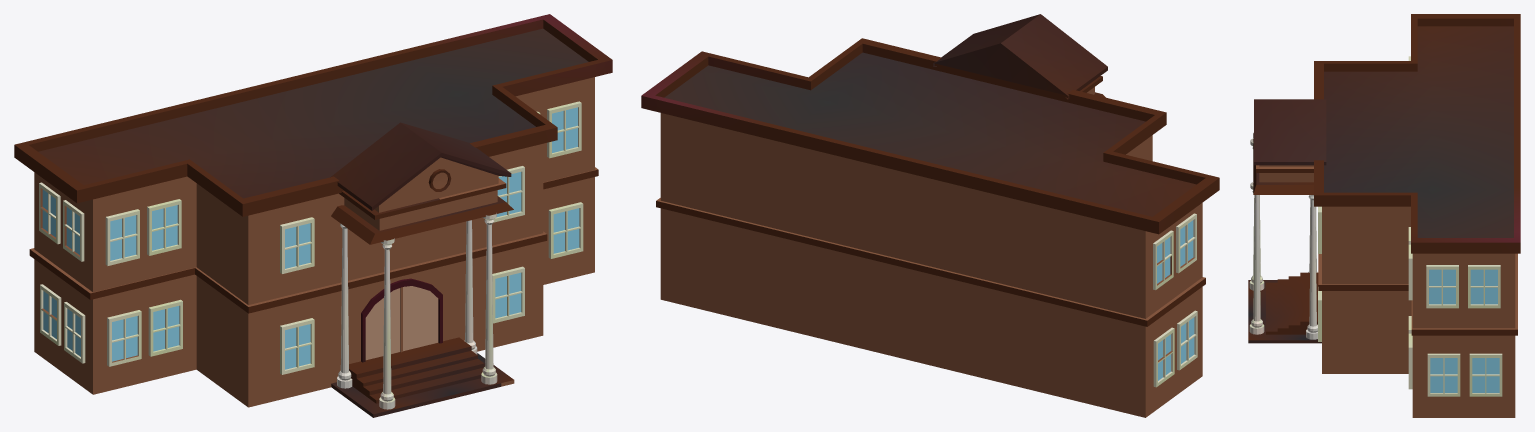
Rendered from DirectorsBuilding.fbx.
3 views of the same model, side by side, from view 1: azimuth 30°, elevation 25°; view 2: azimuth 150°, elevation 25°; view 3: azimuth 270°, elevation 25° (orthographic). The views are drawn at different scales.
Parts seen in each view (by area): view 1: DirectorsBuilding; view 2: DirectorsBuilding; view 3: DirectorsBuilding.
Boxes of the visible parts, bbox=[...] form: DirectorsBuilding: bbox=[14, 14, 612, 417]; DirectorsBuilding: bbox=[641, 14, 1219, 417]; DirectorsBuilding: bbox=[1248, 14, 1520, 417].
Size of the model in its own units: 7965 by 3489 by 4014.
Materials: 1 (1 with a texture image).
